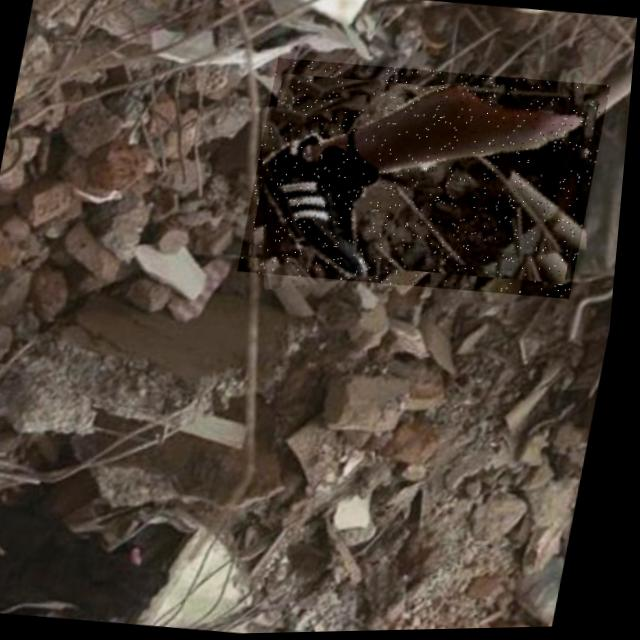Person in Rubble: (238, 53, 614, 307)
